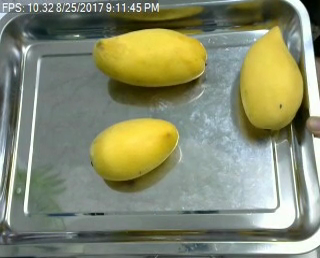Mango: (89, 26, 209, 89), (239, 22, 307, 129), (90, 113, 179, 183)
